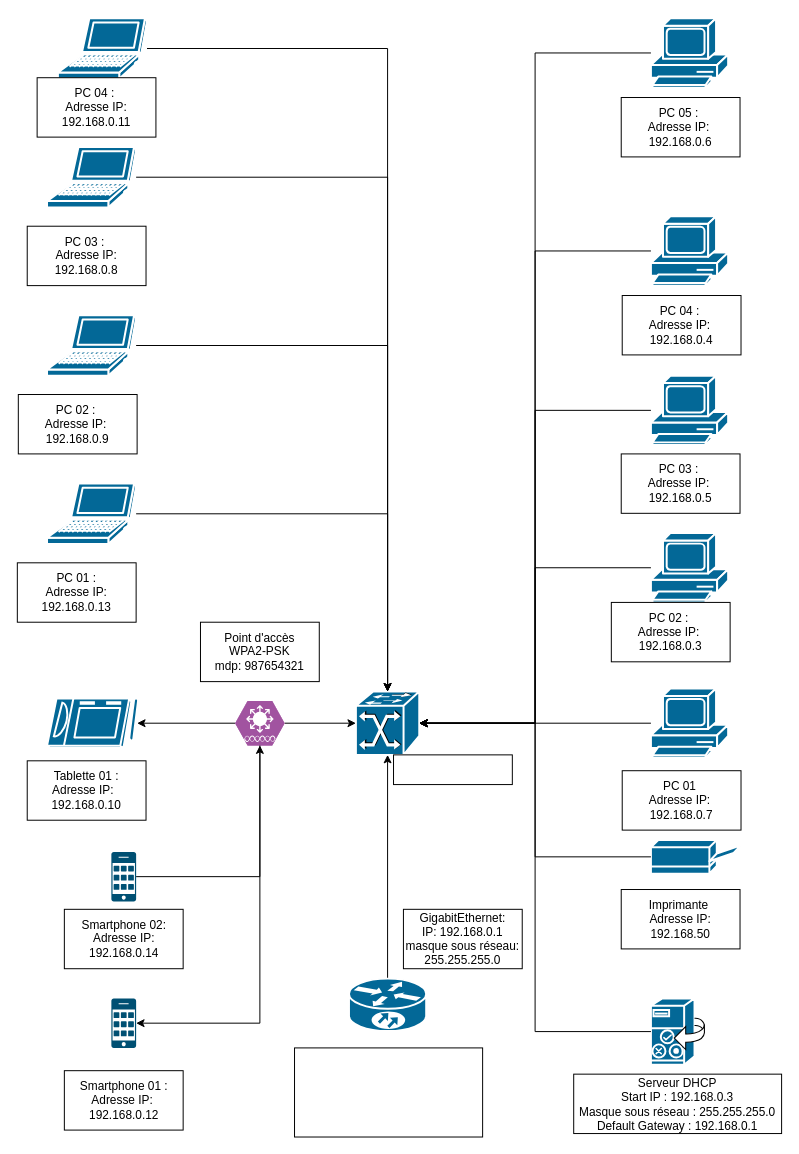
The diagram is 799 pixels wide and 1154 high, and some of its shapes have lost their labels. Here are the shapes that lost their labels. From the top down, the box of each, then its label:
(393, 754, 512, 785): Switch SION
(294, 1047, 483, 1137): Routeur SION RIP : 10.0.0.0-192.168.0.0
